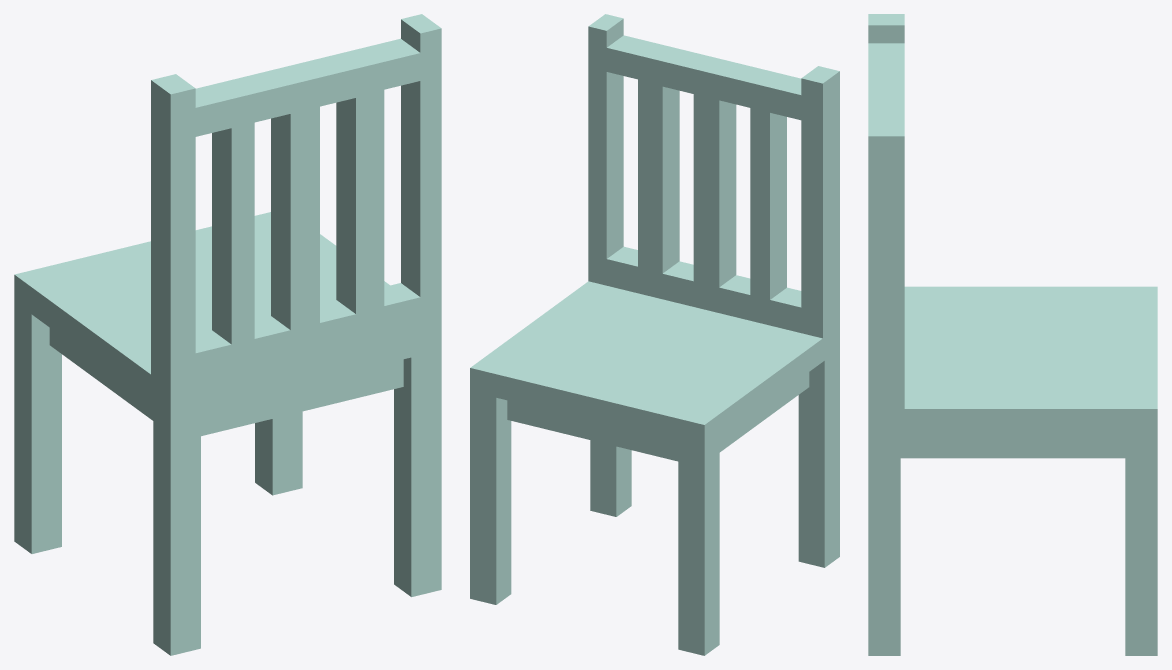
The model's file is Chaise.glb.
3 views of the same model, side by side, from view 1: azimuth 30°, elevation 25°; view 2: azimuth 150°, elevation 25°; view 3: azimuth 270°, elevation 25° (orthographic). The views are drawn at different scales.
Visible parts, largest first — view 1: Box001; view 2: Box001; view 3: Box001.
Boxes of the visible parts, left/top/right/bottom form: Box001: left=14, top=14, right=441, bottom=655; Box001: left=470, top=14, right=839, bottom=655; Box001: left=868, top=14, right=1157, bottom=655.
Bounding box in the file's own units: 0.46 × 0.9111 × 0.46.
